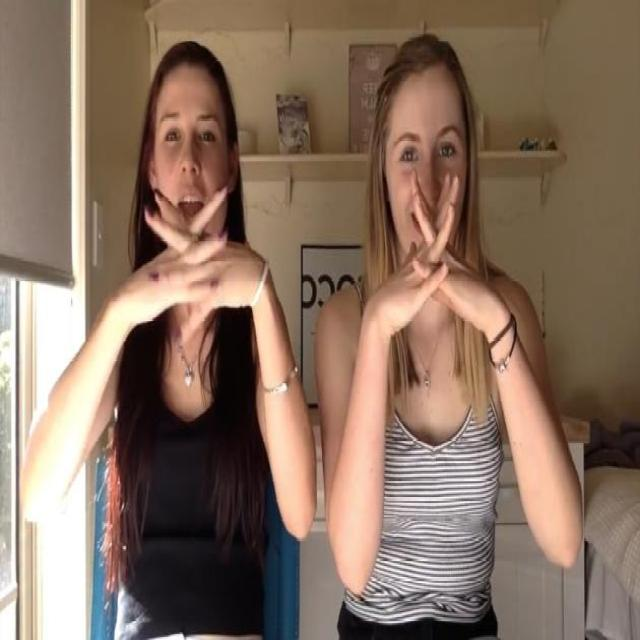W: (377, 168, 530, 375), (121, 163, 270, 330)
